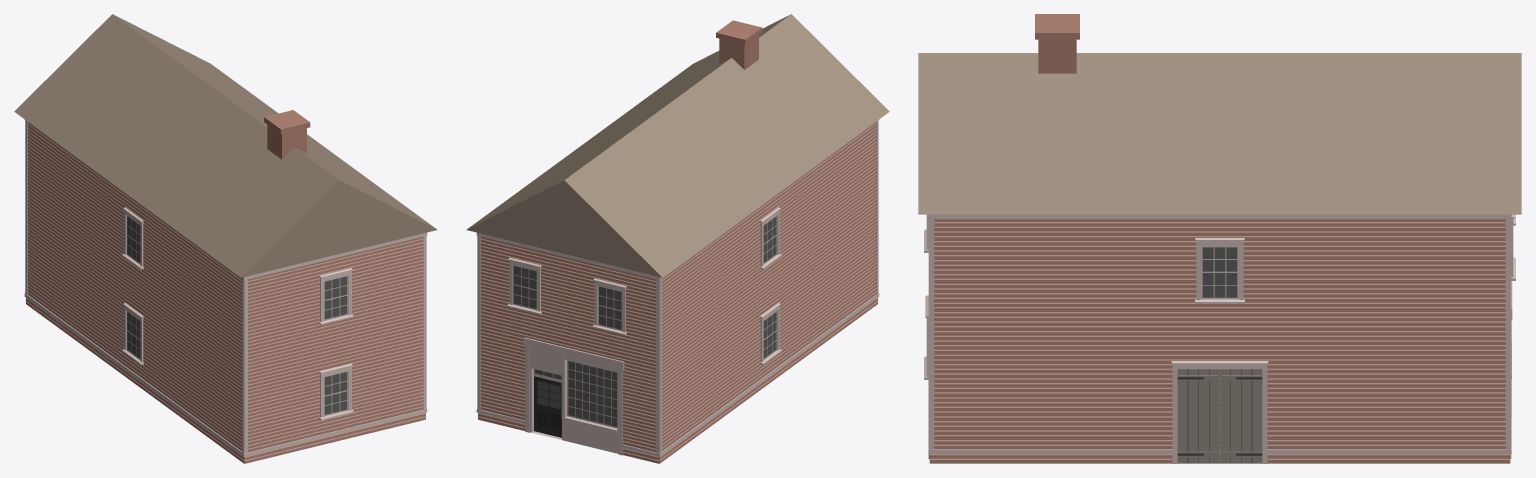
The model's file is recon_1835_blk_south_water_lasalle_c3_12__inferred_1835.glb.
The picture shows the model from 3 angles, left to right: view 1: azimuth 30°, elevation 25°; view 2: azimuth 150°, elevation 25°; view 3: azimuth 270°, elevation 25°; orthographic projection. The views are drawn at different scales.
Parts seen in each view (by area): view 1: recon_1835_blk_south_water_lasalle_c3_12__inferred_1835; view 2: recon_1835_blk_south_water_lasalle_c3_12__inferred_1835; view 3: recon_1835_blk_south_water_lasalle_c3_12__inferred_1835.
Boxes of the visible parts, left/top/right/bottom form: recon_1835_blk_south_water_lasalle_c3_12__inferred_1835: left=14, top=14, right=437, bottom=463; recon_1835_blk_south_water_lasalle_c3_12__inferred_1835: left=466, top=14, right=889, bottom=463; recon_1835_blk_south_water_lasalle_c3_12__inferred_1835: left=918, top=14, right=1521, bottom=463.
Size of the model in its own units: 6.58 by 9.17 by 13.16.
